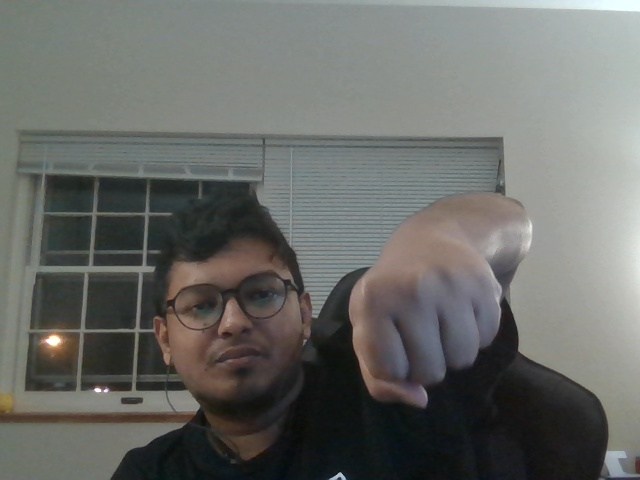yes: (317, 211, 574, 431)
